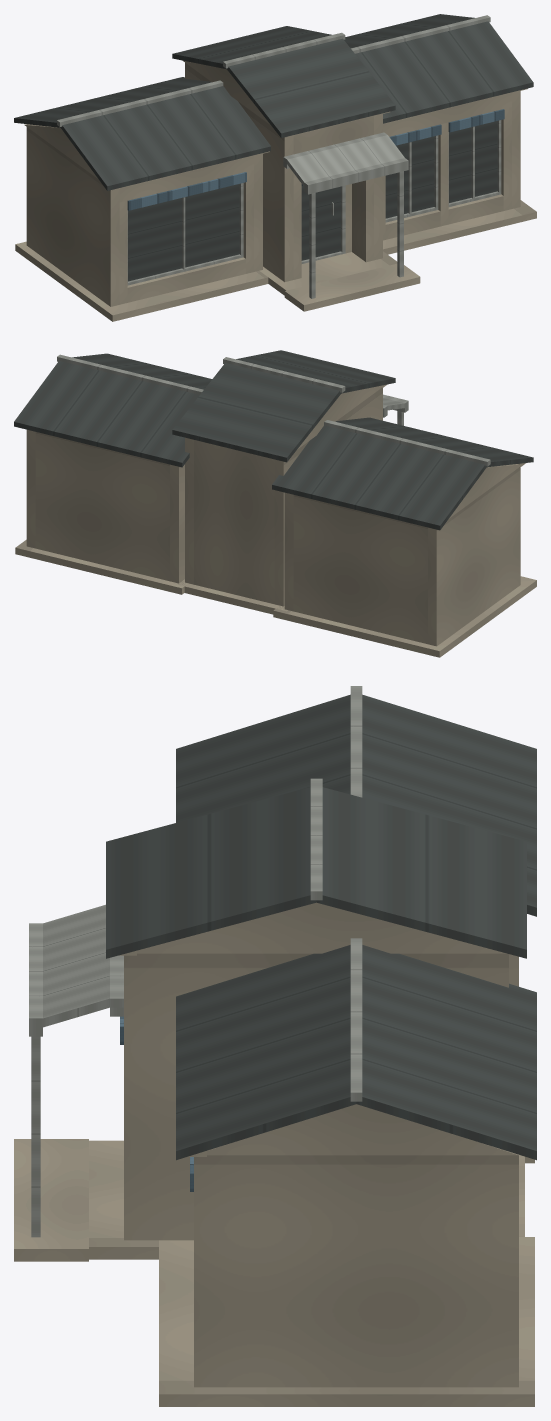
Rendered from budapest.glb.
3 views of the same model, one above another, from view 1: azimuth 30°, elevation 25°; view 2: azimuth 150°, elevation 25°; view 3: azimuth 270°, elevation 25° (orthographic). The views are drawn at different scales.
Visible parts, largest first — view 1: budapest; view 2: budapest; view 3: budapest.
Part boxes in pixels (x1,y1,x2,y2): budapest: [14, 14, 536, 321]; budapest: [14, 350, 536, 657]; budapest: [14, 686, 536, 1406].
Bounding box in the file's own units: 8.6 × 3.67 × 4.68.
Materials: 1 (1 with a texture image).
